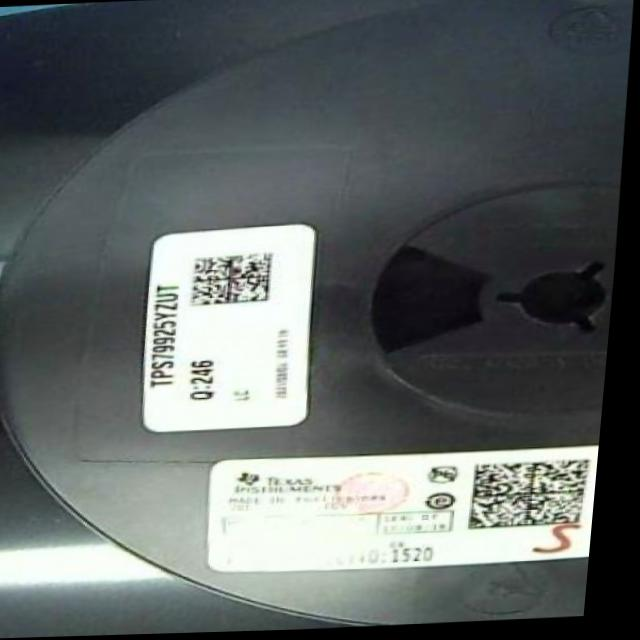datamatrix: (474, 460, 605, 535), (191, 250, 286, 308)
